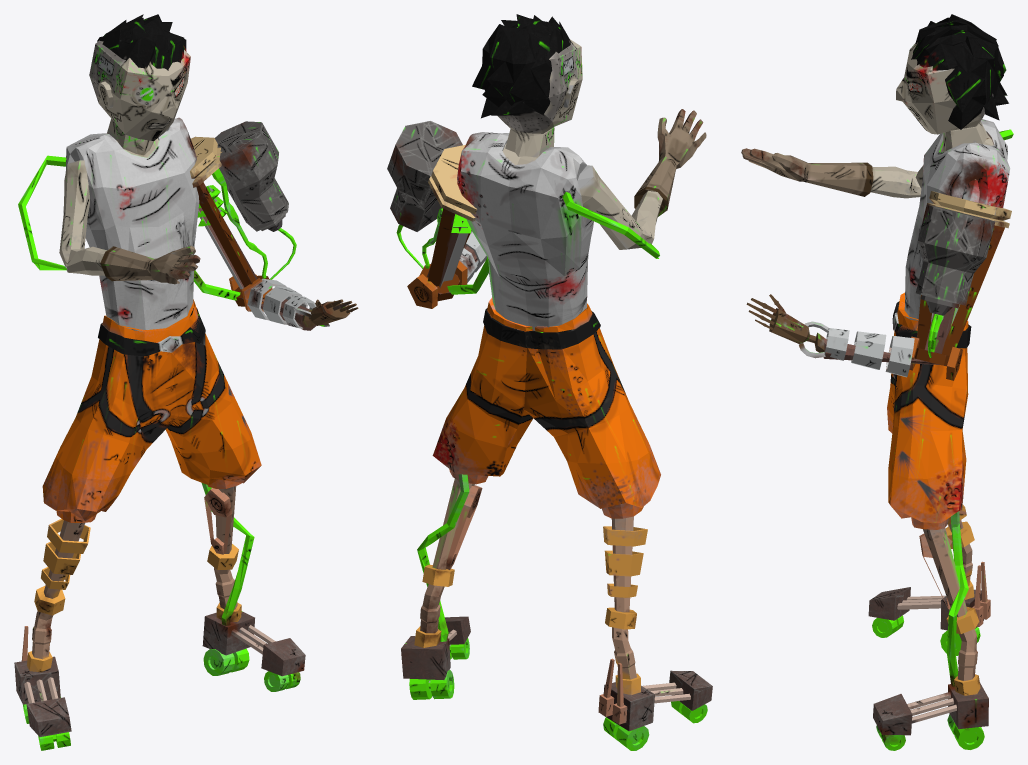
The model's file is CyborgFINALAnimation_000026.obj.
3 views of the same model, side by side, from view 1: azimuth 30°, elevation 25°; view 2: azimuth 150°, elevation 25°; view 3: azimuth 270°, elevation 25° (orthographic). The views are drawn at different scales.
Parts seen in each view (by area): view 1: CyborgMesh_Cube.002; view 2: CyborgMesh_Cube.002; view 3: CyborgMesh_Cube.002.
Part boxes in pixels (<box>): CyborgMesh_Cube.002: <box>14,14,358,750</box>; CyborgMesh_Cube.002: <box>387,14,712,750</box>; CyborgMesh_Cube.002: <box>741,14,1013,750</box>.
Bounding box in the file's own units: 4.19 × 9.63 × 3.5.
